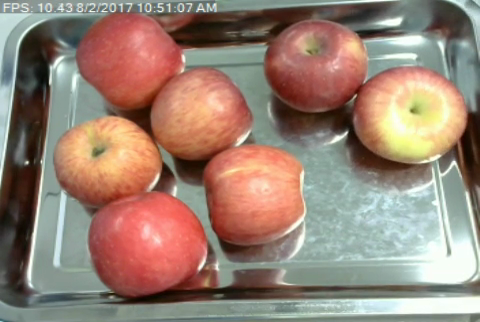Apple: (86, 193, 209, 298), (352, 63, 467, 166), (77, 11, 185, 112), (202, 144, 307, 247), (54, 110, 161, 210), (264, 17, 368, 113), (150, 65, 253, 161)
